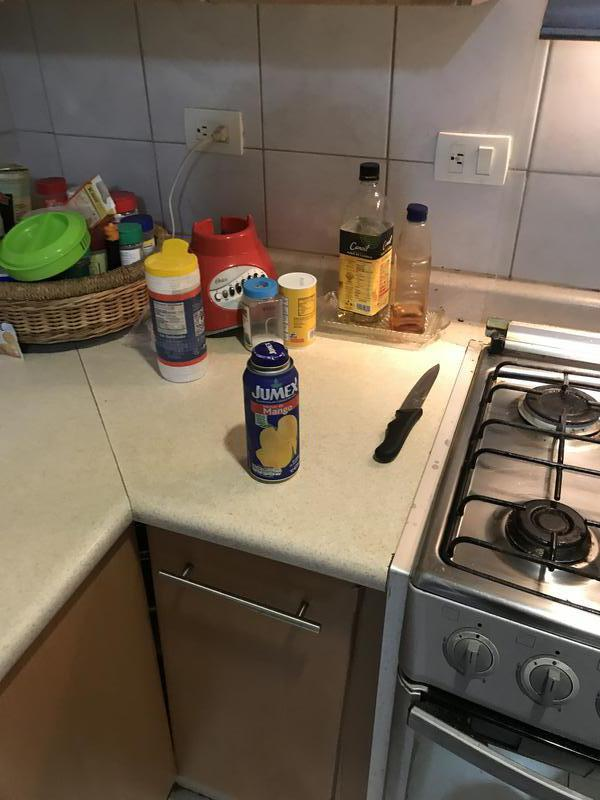jugo_jumex: (240, 340, 305, 485)
